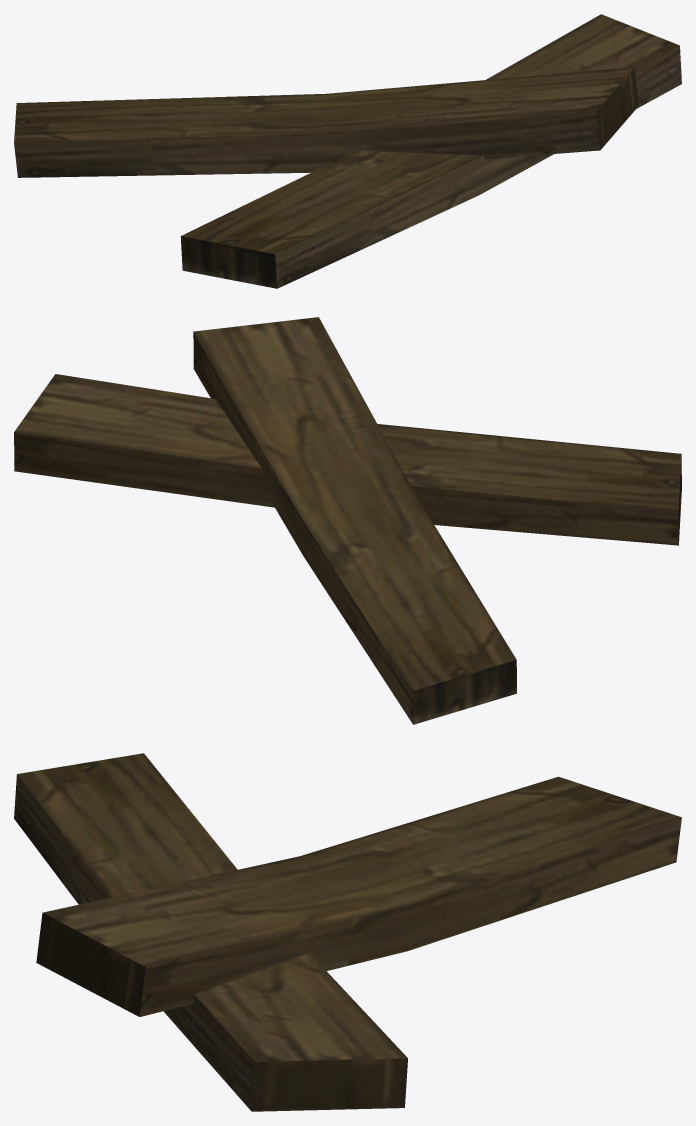
The model's file is Battle04_Wood_01.FBX.
3 renders of one model, top to bottom at view 1: azimuth 30°, elevation 25°; view 2: azimuth 150°, elevation 25°; view 3: azimuth 270°, elevation 25°, orthographic. The views are drawn at different scales.
Parts seen in each view (by area): view 1: Battle04_Wood_01; view 2: Battle04_Wood_01; view 3: Battle04_Wood_01.
Boxes of the visible parts, box(x1,y1,x2,y2) form: Battle04_Wood_01: box(14, 14, 681, 288); Battle04_Wood_01: box(14, 317, 681, 724); Battle04_Wood_01: box(14, 753, 681, 1111).
Bounding box in the file's own units: 6.35 × 1.36 × 5.13.
